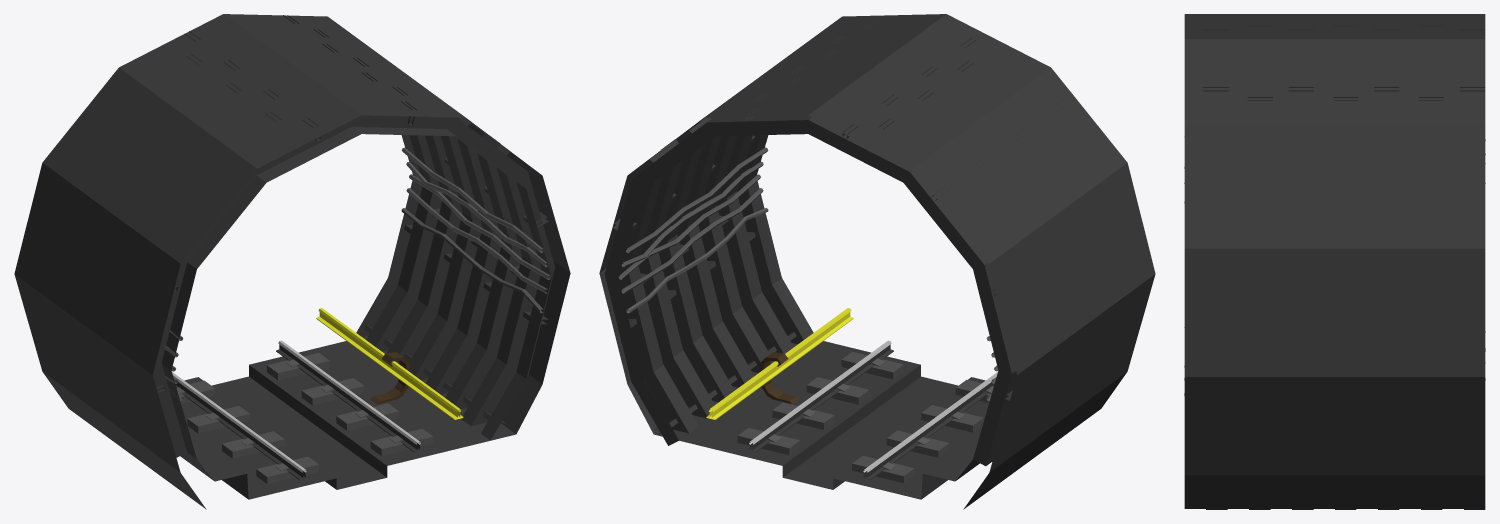
The model's file is Tunnel.fbx.
The picture shows the model from 3 angles, left to right: view 1: azimuth 30°, elevation 25°; view 2: azimuth 150°, elevation 25°; view 3: azimuth 270°, elevation 25°; orthographic projection. The views are drawn at different scales.
Visible parts, largest first — view 1: Tunnel; view 2: Tunnel; view 3: Tunnel.
Boxes of the visible parts, box(x1,y1,x2,y2) form: Tunnel: box(14, 14, 570, 509); Tunnel: box(599, 14, 1155, 509); Tunnel: box(1184, 14, 1485, 509).
Size of the model in its own units: 5.8 by 4.89 by 3.34.
